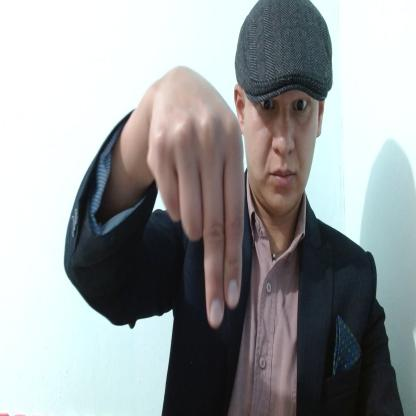N: (146, 67, 244, 327)
